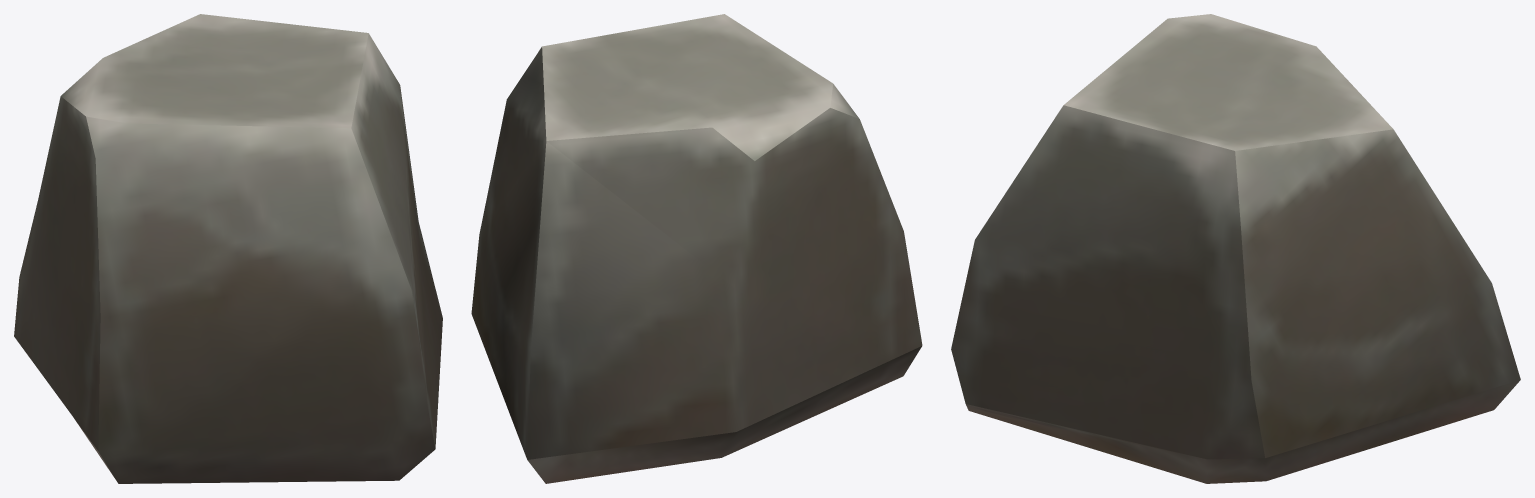
File: ROCK 3.fbx
3 views of the same model, side by side, from view 1: azimuth 30°, elevation 25°; view 2: azimuth 150°, elevation 25°; view 3: azimuth 270°, elevation 25° (orthographic). The views are drawn at different scales.
Parts seen in each view (by area): view 1: SM_Rocks_06; view 2: SM_Rocks_06; view 3: SM_Rocks_06.
Part boxes in pixels (box(x1,y1,x2,y2)): SM_Rocks_06: box(14, 14, 442, 483); SM_Rocks_06: box(471, 14, 922, 483); SM_Rocks_06: box(951, 14, 1520, 483).
Size of the model in its own units: 28.32 by 24.1 by 36.28.
1 material, 1 textured.
